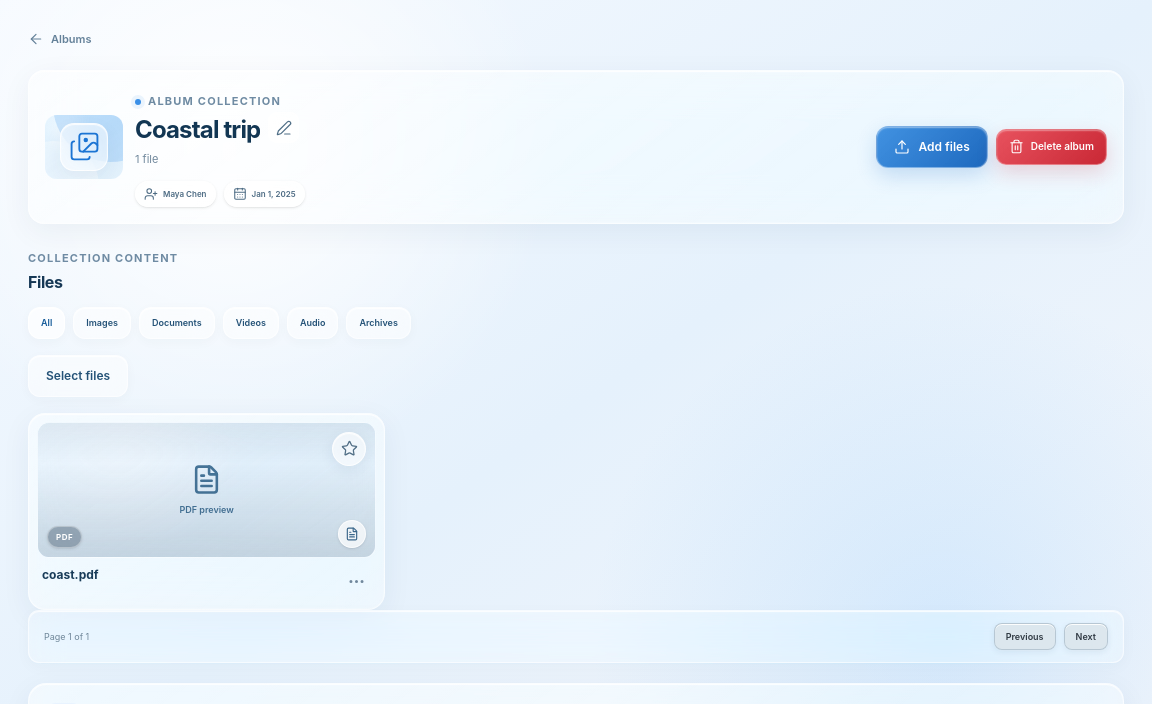
Test: page workflows › reports storage cleanup warnings after deleting album files
The width and height of the screenshot is (1152, 704).
Expected: the heading "coast.pdf" is shown, top-left (42, 567), bottom-right (98, 582)
Click the button "Select files": [78, 376] box top-left (28, 355), bottom-right (128, 397)
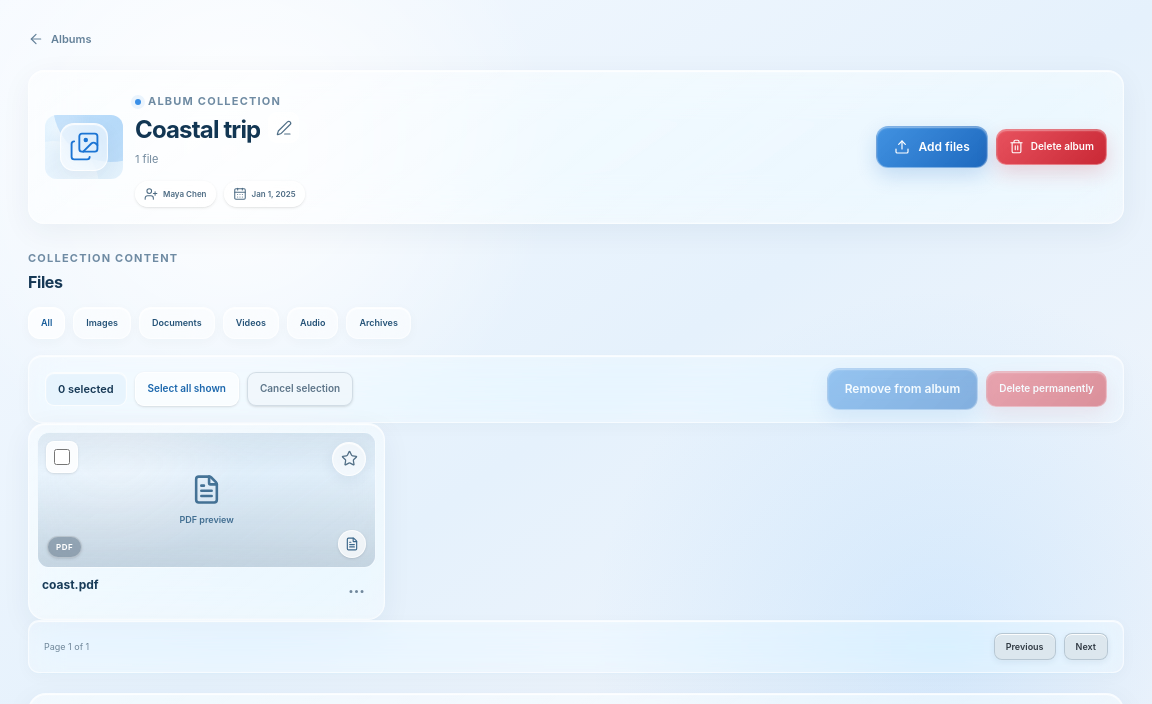
Click the checkbox named "Select coast.pdf": [62, 457] box top-left (54, 449), bottom-right (70, 465)
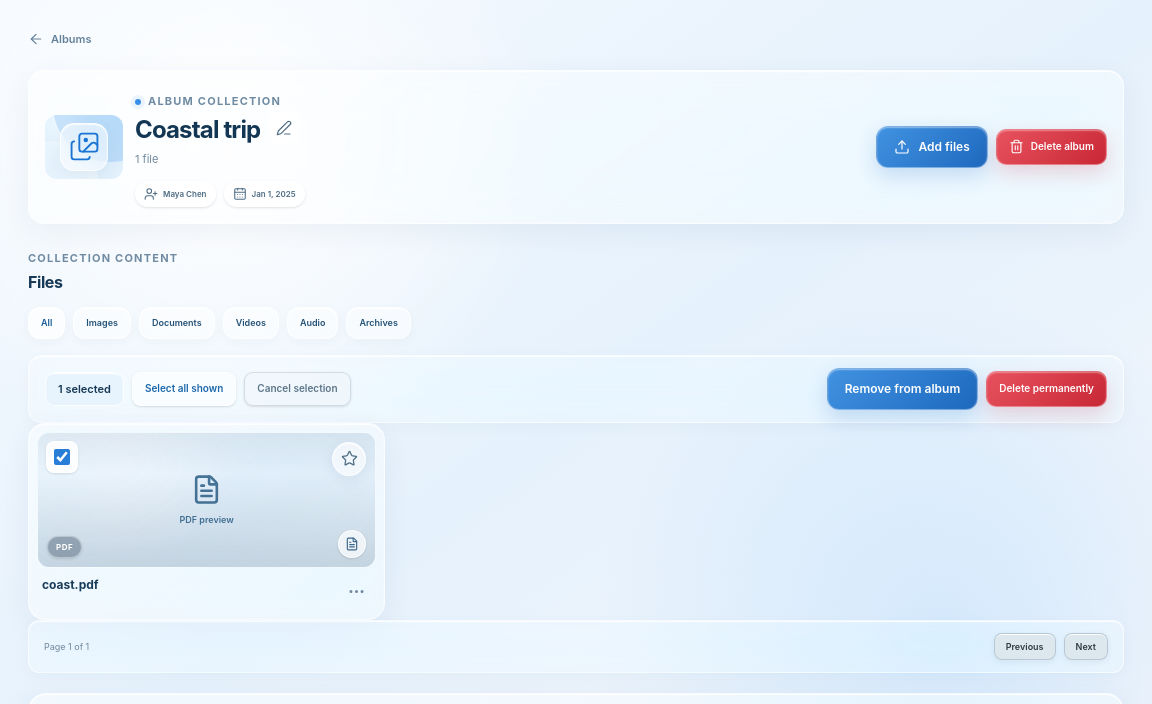
Click the button "Delete permanently": [1047, 389] box top-left (986, 371), bottom-right (1107, 407)
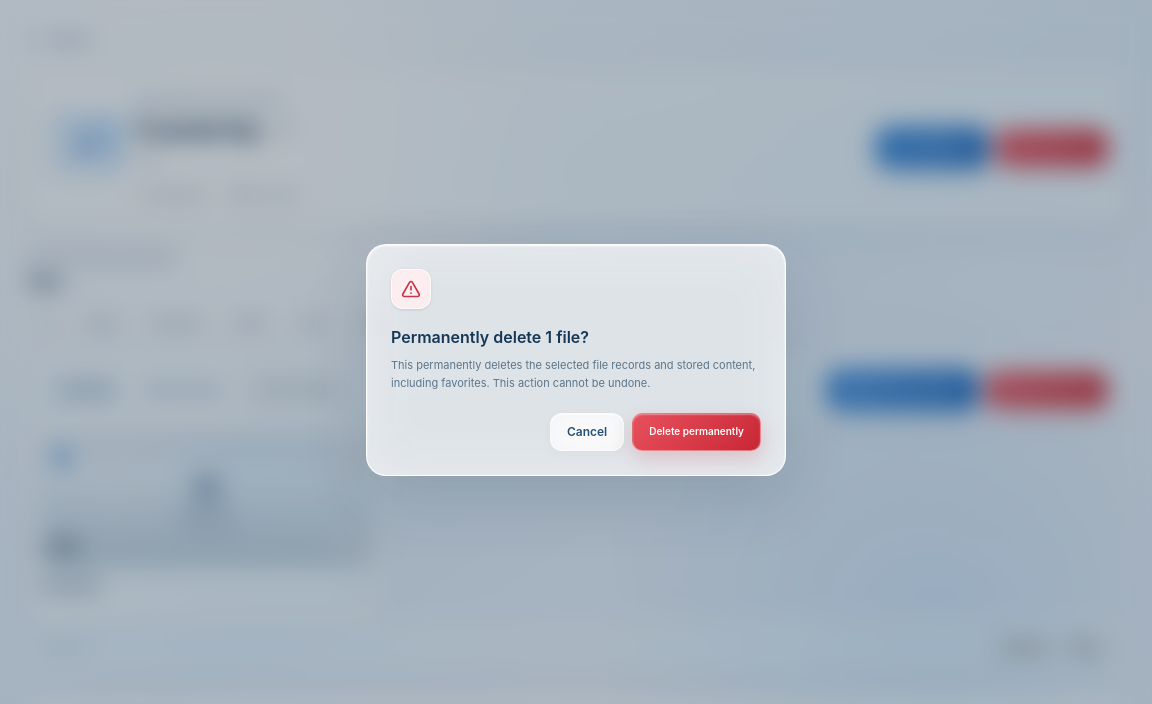
Click the button "Delete permanently": [697, 432] box top-left (632, 413), bottom-right (761, 451)
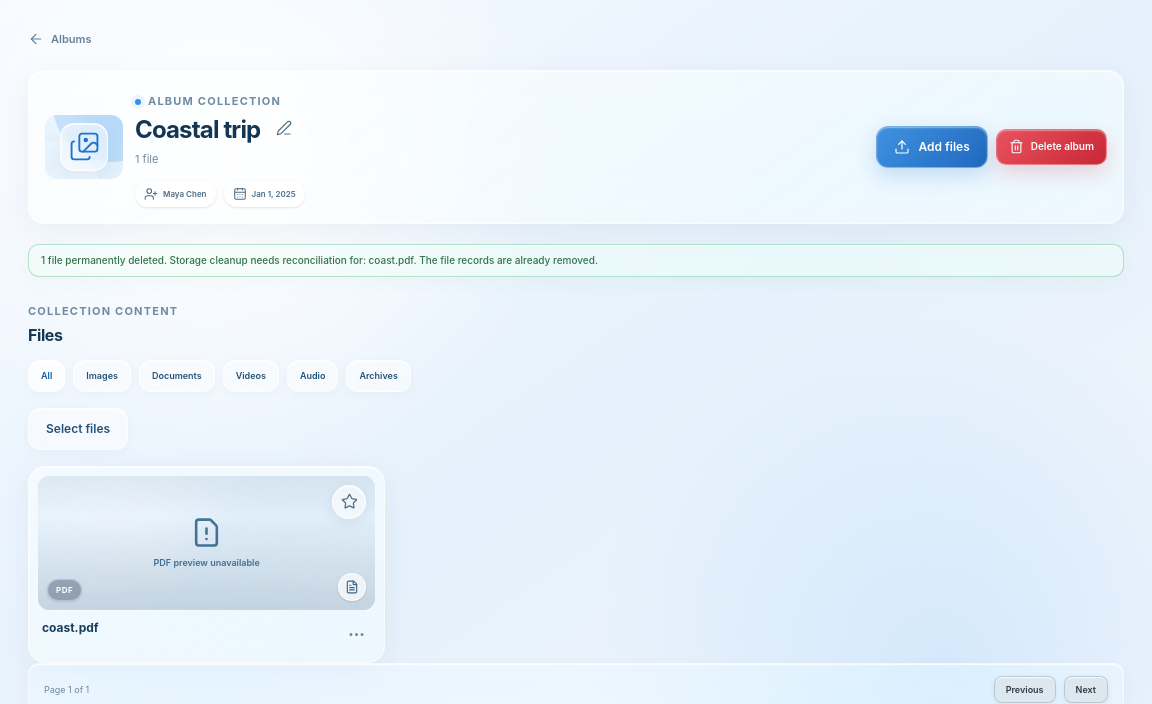
Expected: the text "Storage cleanup needs reconciliation for: coast.pdf" is shown, top-left (41, 254), bottom-right (598, 266)
